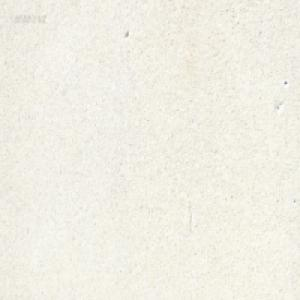Wrench: (178, 0, 185, 5)
